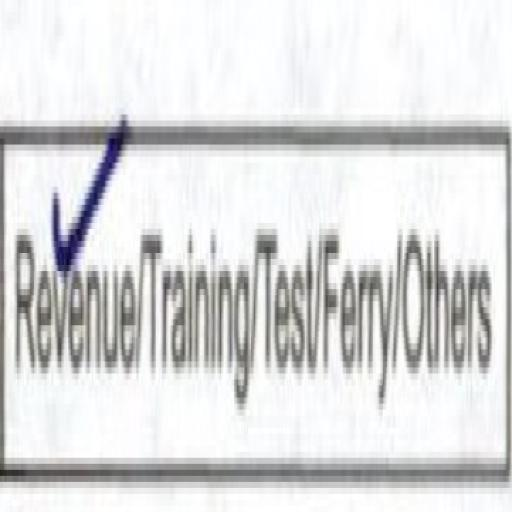check: (2, 0, 139, 512)
